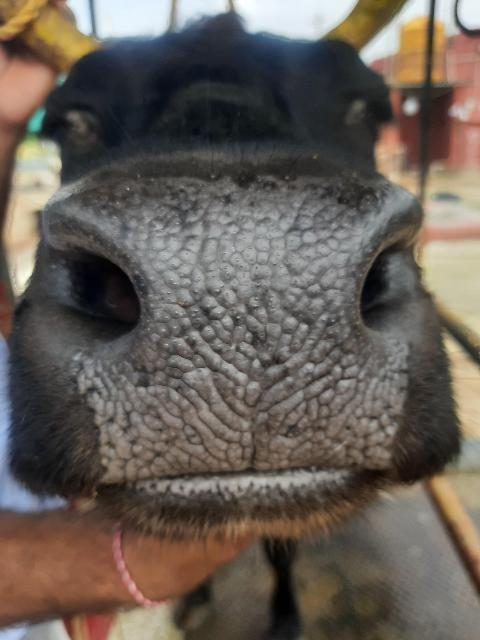Muzzle: (139, 195, 352, 442)
